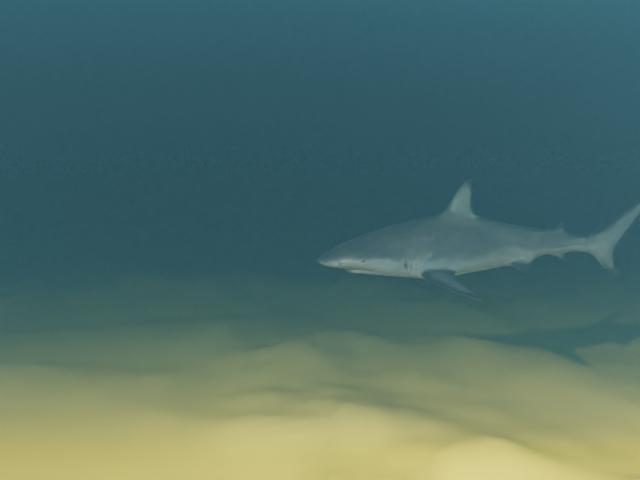Carribean Shark.001: (317, 179, 640, 301)
